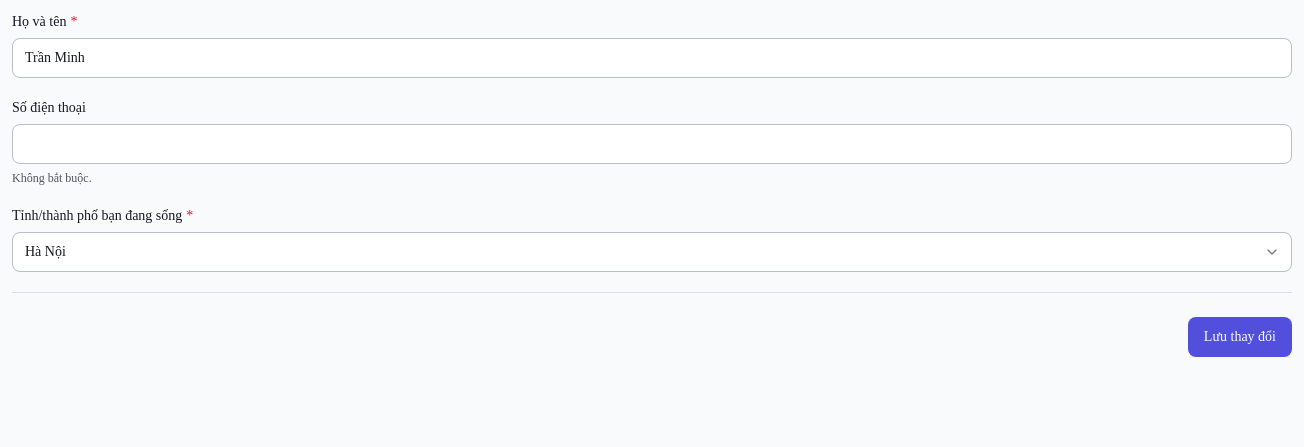
PersonalStep › says why saving failed when the problem is not one of its fields
Click the button "Lưu thay đổi".
click(1240, 337)  # box top-left (1188, 317), bottom-right (1292, 357)
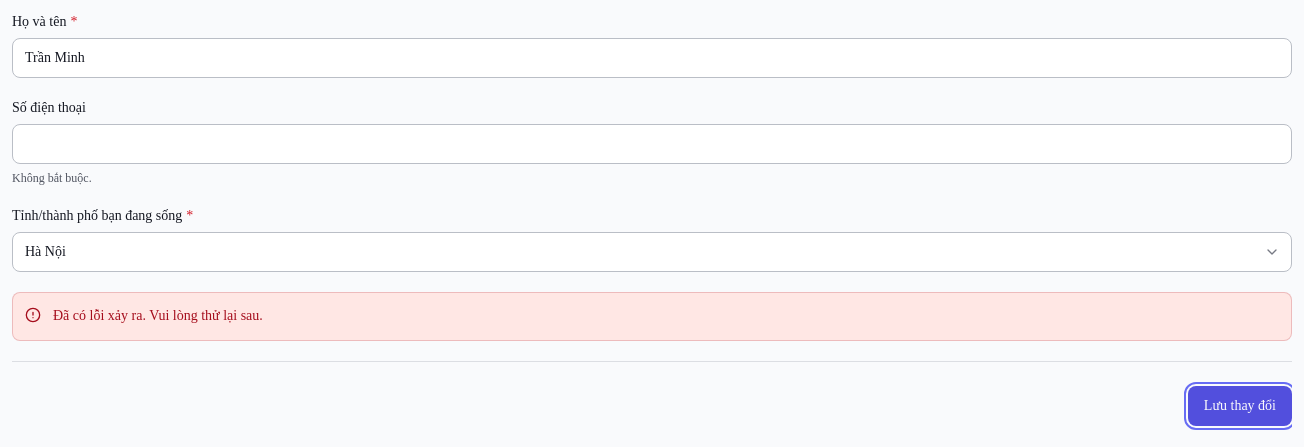
Expected: the message reads "Đã có lỗi xảy ra. Vui lòng thử lại sau.", top-left (53, 308), bottom-right (263, 323)
